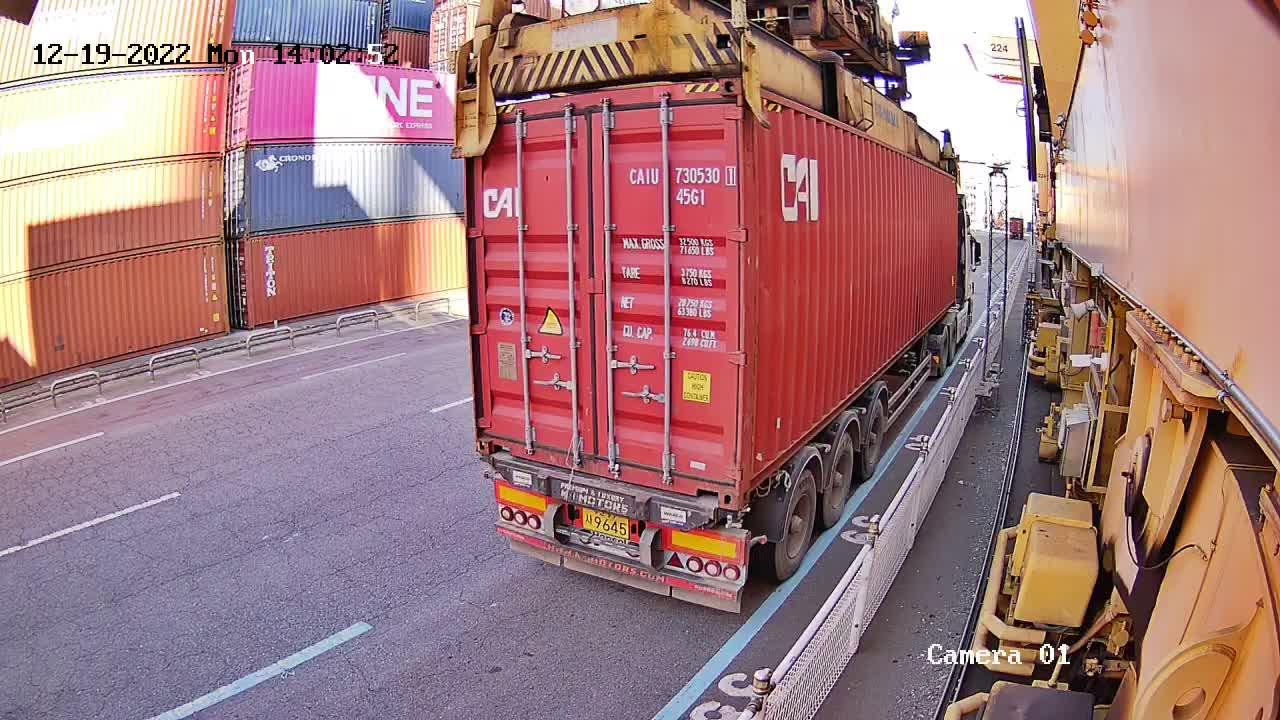Chassis: (479, 457, 735, 532)
Cone: (477, 462, 493, 483), (724, 513, 742, 530)
Hole_L: (475, 412, 518, 459)
Hole_R: (690, 453, 740, 510)
Tire: (779, 474, 816, 577), (826, 435, 853, 526), (863, 400, 885, 476)
